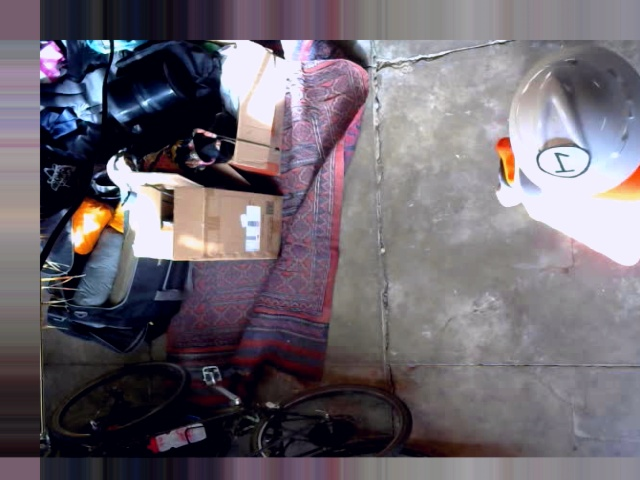one: (536, 145, 590, 177)
